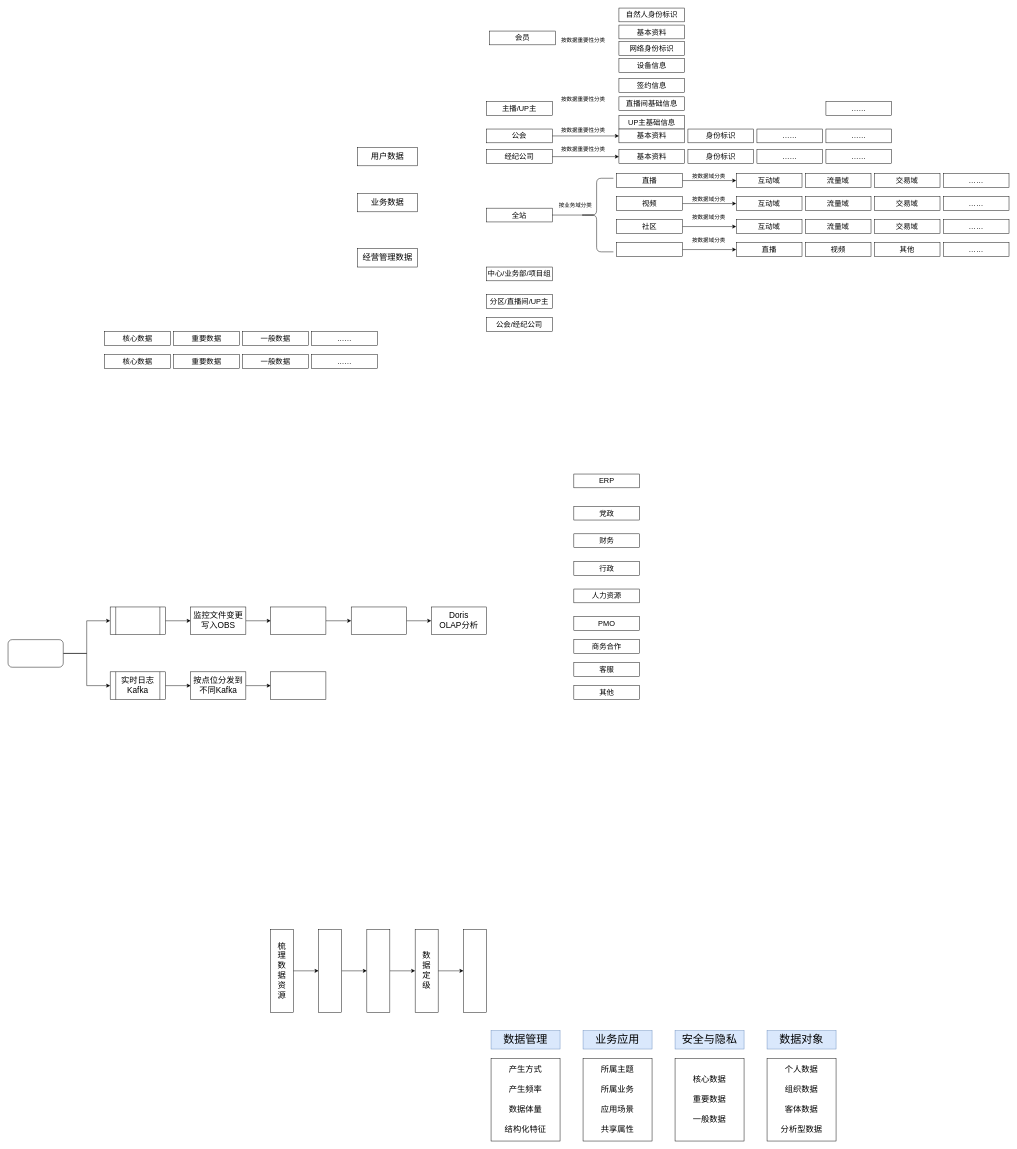
The diagram is 1017 pixels wide and 1149 high, and some of its shapes have lost their labels. Each missing label, with the centre of its shape:
实时分析: the point at 298,685
打点日志搜集: the point at 35,653
数 据 分 类: the point at 378,970
数仓ODS表: the point at 378,621
数仓外部表: the point at 298,621
确 定 分 类 分 级 策 略: the point at 330,970
离线日志 磁盘: the point at 137,621
落 地 及 长 期 运 营: the point at 474,970
频道: the point at 649,249
